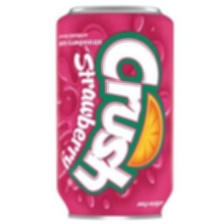can: (49, 5, 178, 219)
